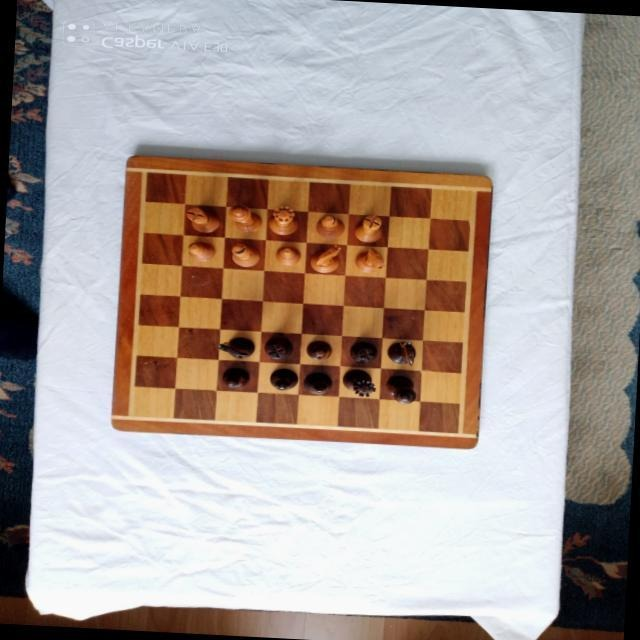black-bishop: (302, 371, 332, 397), (269, 368, 298, 391)
black-king: (384, 375, 416, 405)
black-knight: (216, 336, 255, 360), (387, 340, 417, 365)
black-pawn: (222, 367, 250, 389), (304, 339, 331, 360)
black-queen: (340, 368, 375, 398)
black-rook: (263, 337, 294, 361), (349, 341, 377, 364)
white-bishop: (314, 214, 346, 240), (230, 243, 260, 268)
white-king: (226, 204, 262, 234)
white-knight: (308, 242, 340, 274), (353, 247, 384, 273)
white-pawn: (185, 240, 214, 263), (275, 245, 301, 266)
white-queen: (266, 204, 298, 236)
white-rook: (184, 207, 220, 233), (353, 214, 383, 243)
